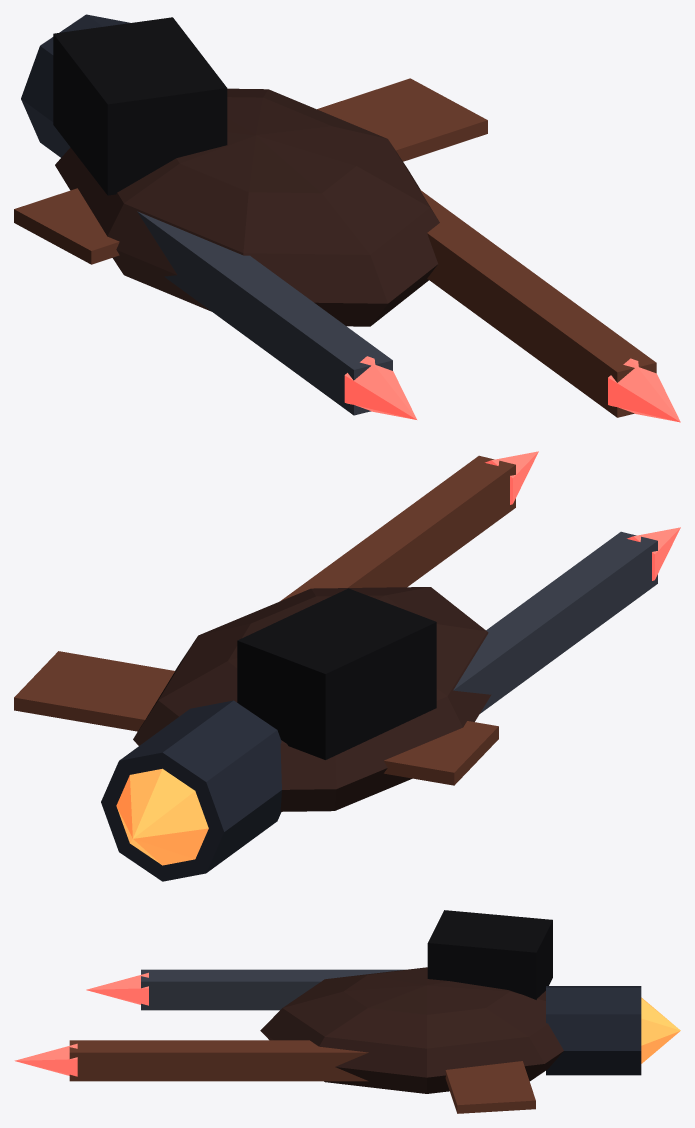
Rendered from pirate.glb.
The picture shows the model from 3 angles, top to bottom: view 1: azimuth 30°, elevation 25°; view 2: azimuth 150°, elevation 25°; view 3: azimuth 270°, elevation 25°; orthographic projection. The views are drawn at different scales.
Parts seen in each view (by area): view 1: pirate; view 2: pirate; view 3: pirate.
Boxes of the visible parts, left/top/right/bottom form: pirate: left=14, top=14, right=680, bottom=422; pirate: left=14, top=451, right=680, bottom=881; pirate: left=14, top=910, right=680, bottom=1113.
Bounding box in the file's own units: 2.05 × 0.865 × 4.2.
1 material, 1 textured.
